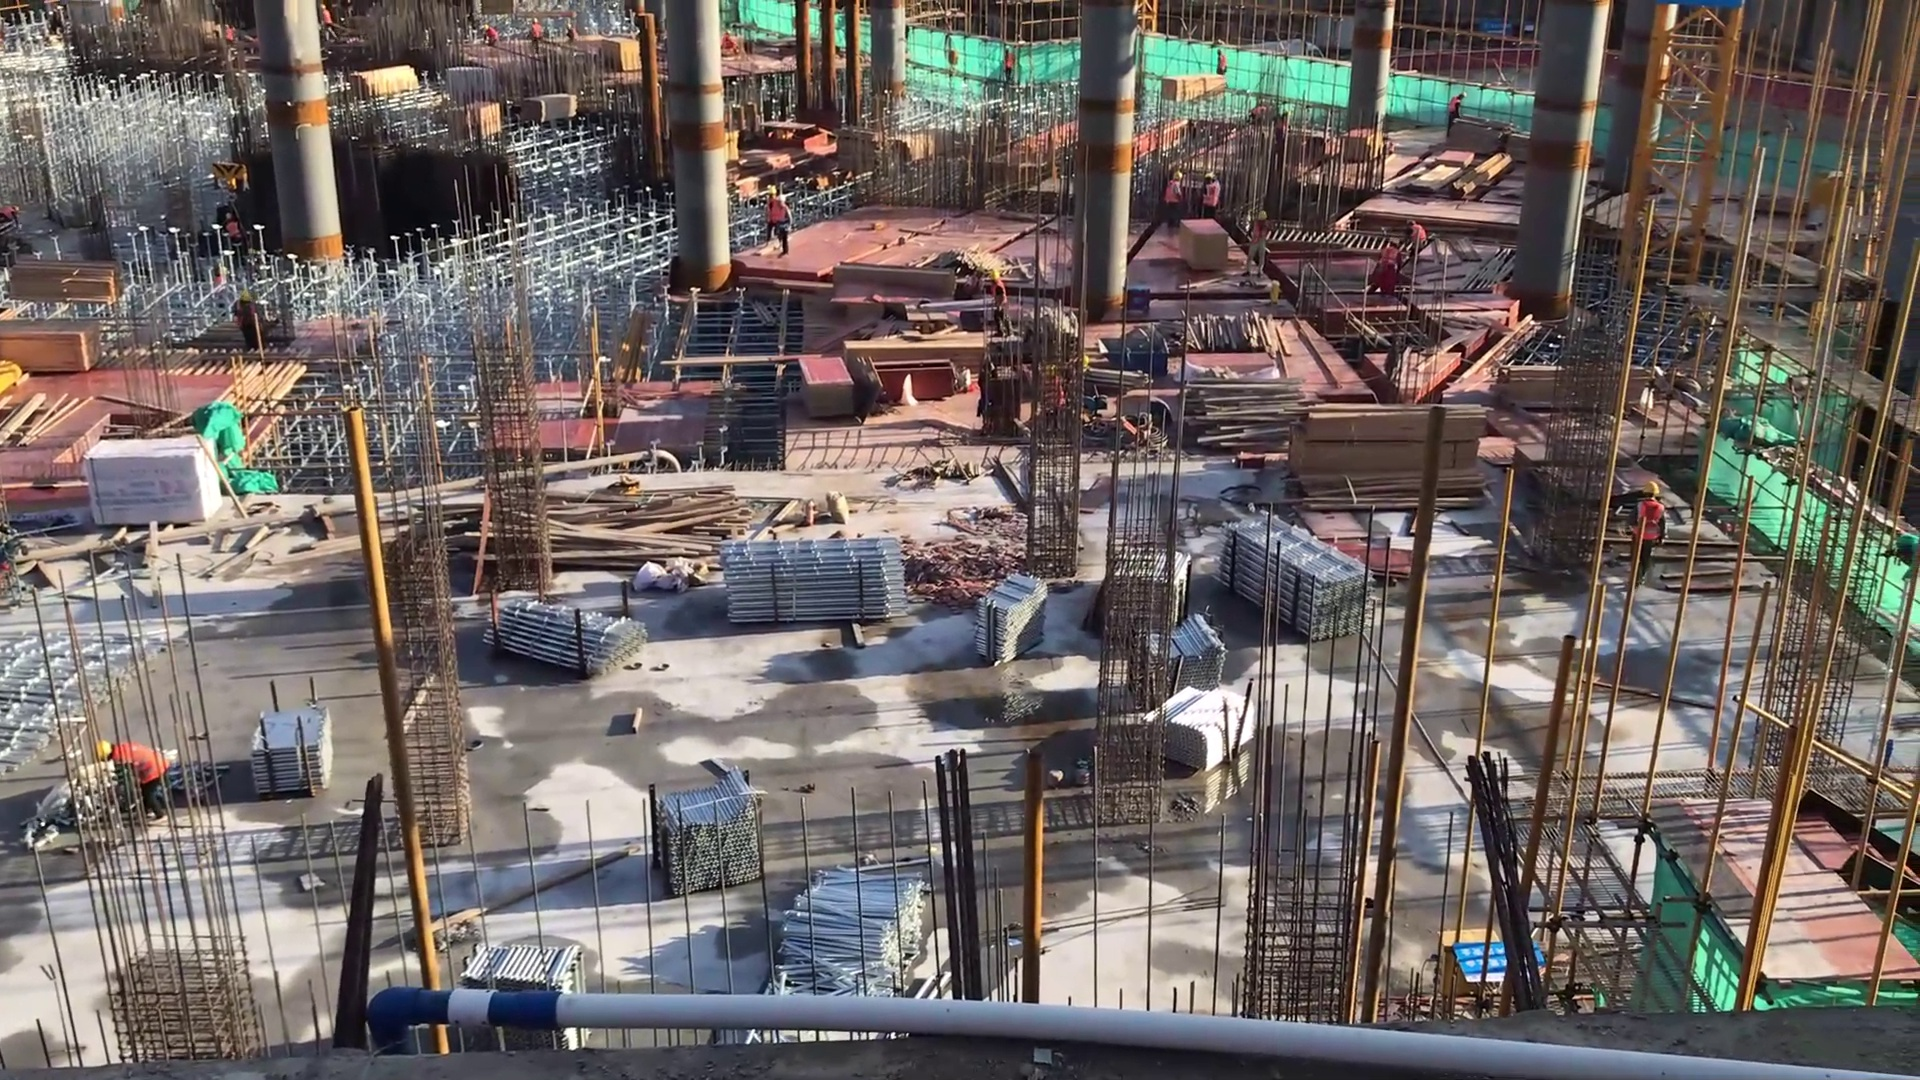board: (1320, 539, 1411, 593), (797, 355, 860, 425), (600, 29, 653, 79)
helmet: (94, 737, 119, 769), (1640, 482, 1660, 500), (1078, 351, 1089, 376), (984, 269, 1002, 284), (776, 191, 790, 206), (1253, 209, 1267, 222), (237, 291, 253, 302), (766, 183, 778, 197), (1204, 172, 1216, 183), (1171, 170, 1183, 181), (1390, 237, 1401, 249), (223, 209, 232, 222)
hook: (1097, 331, 1173, 378)
person: (95, 736, 191, 841), (1630, 476, 1679, 588), (1239, 206, 1275, 296), (1372, 238, 1406, 305), (232, 290, 264, 362), (221, 207, 252, 272), (986, 269, 1011, 347), (1198, 166, 1226, 232), (1164, 165, 1189, 239), (772, 189, 797, 260), (1440, 87, 1468, 141), (1407, 210, 1435, 263), (994, 44, 1020, 93), (474, 16, 504, 58), (762, 179, 781, 245), (1209, 44, 1237, 86), (318, 1, 337, 52), (529, 13, 545, 63), (1, 202, 25, 235), (561, 21, 584, 47)
scaffold: (770, 859, 937, 1012), (1225, 502, 1368, 648), (722, 535, 909, 626), (649, 764, 763, 898), (483, 596, 658, 680), (962, 570, 1068, 681), (1138, 617, 1234, 702), (458, 931, 580, 985)
slogan: (1447, 931, 1537, 992)
vest: (116, 743, 172, 794), (1633, 497, 1669, 546), (1200, 181, 1221, 211), (1163, 181, 1185, 208), (1248, 222, 1273, 244), (775, 204, 794, 233), (1409, 223, 1427, 251), (1379, 247, 1397, 275), (991, 283, 1009, 310)
wood: (1287, 392, 1499, 508), (534, 483, 750, 576), (1487, 359, 1658, 426), (1174, 384, 1306, 459), (842, 335, 989, 378), (1, 314, 101, 373), (12, 257, 118, 309), (515, 88, 584, 129), (344, 66, 425, 96), (1159, 72, 1229, 104)
